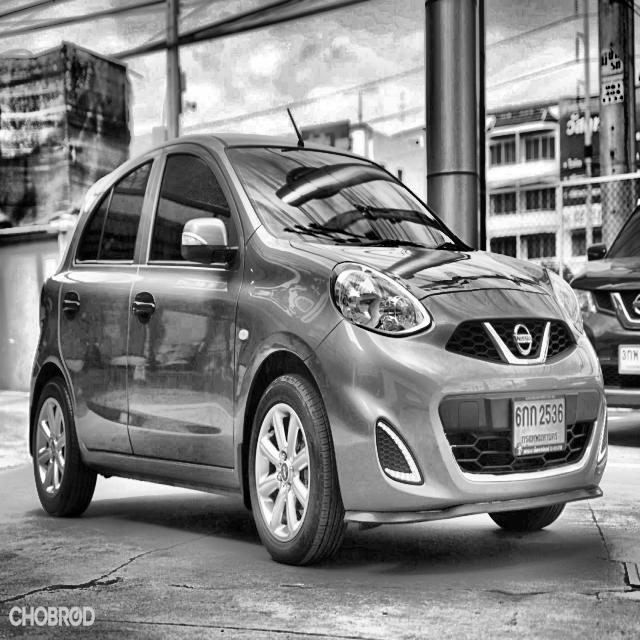license-plate: (505, 390, 571, 464)
